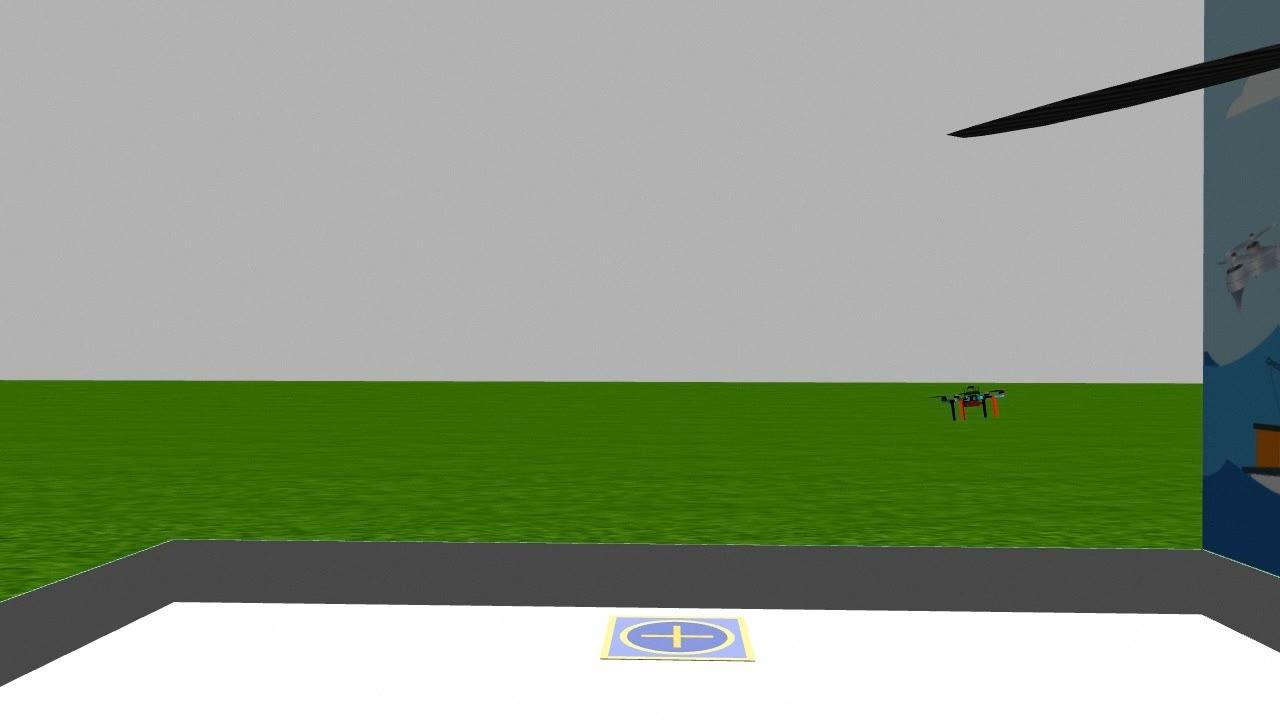UAV: (934, 374, 1009, 424)
